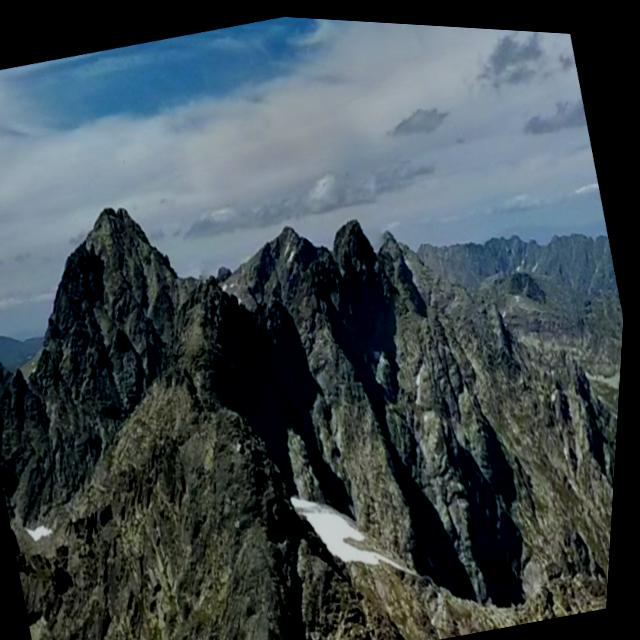Ganek: (217, 166, 415, 355)
Rysy: (204, 155, 368, 302)
Vysoka: (0, 97, 226, 323)
